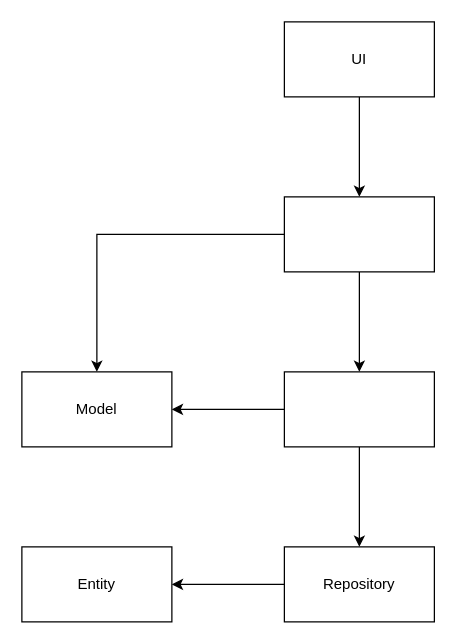
This 456x644 diagram has some shape labels left out. The centre of each missing label's shape, as x and y in pixels:
Service: point 358,409
View Model: point 358,234
